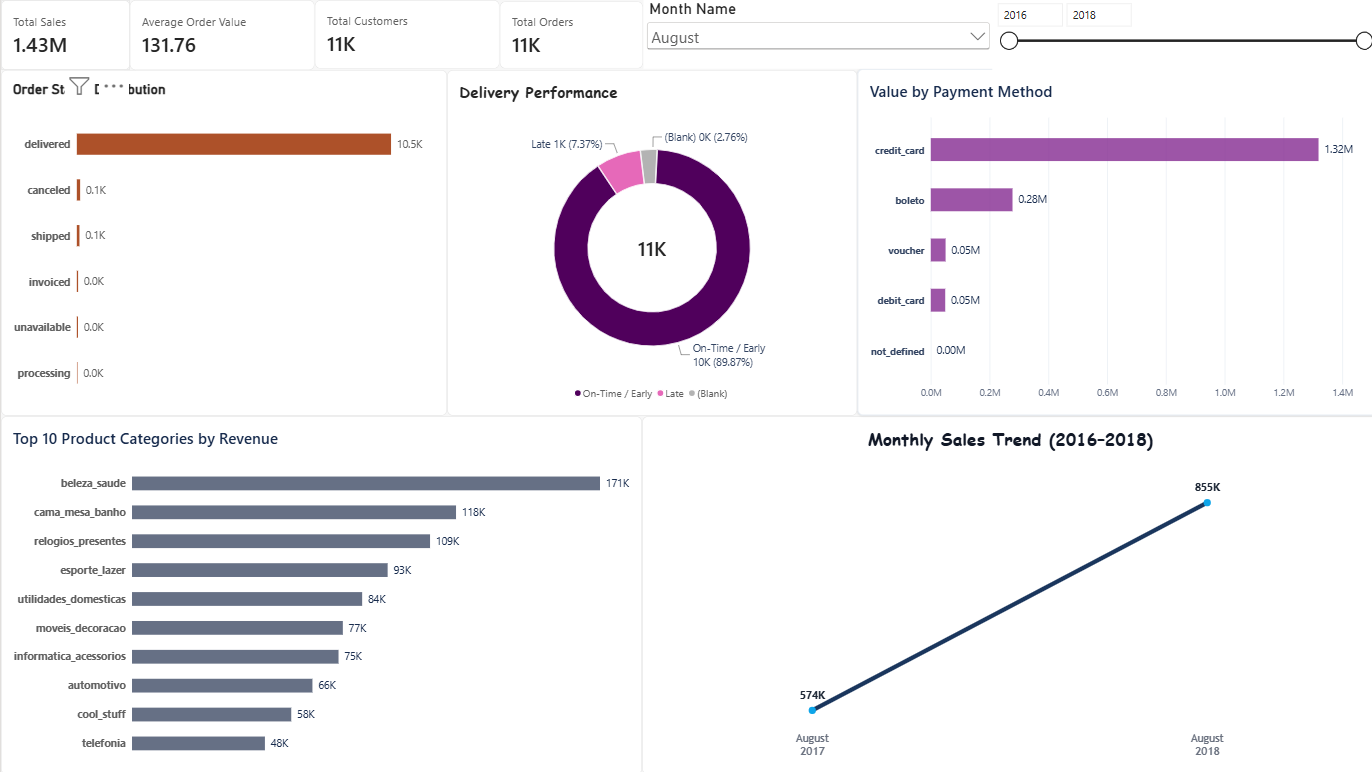

Layout of this report page (visuals, bound fields, positions):
{"tool":"powerbi","page":{"name":"Page 1","canvas":[1920,1080],"ordinal":0},"visuals":[{"type":"lineChart","title":"Monthly Sales Trend (2016–2018)","fields":{"Category":["DateTable.Year","DateTable.Month Name"],"Y":["olist_ecommerce order_items.Total Sales"]},"box":[894,580,1026,500],"z":0},{"type":"clusteredBarChart","title":"Top 10 Product Categories by Revenue","fields":{"Category":["olist_ecommerce products.product_category_name"],"Y":["olist_ecommerce order_items.Total Sales"]},"box":[0,580,894,500],"z":1000},{"type":"clusteredBarChart","title":"Value by Payment Method","fields":{"Category":["olist_ecommerce order_payments.payment_type"],"Y":["olist_ecommerce order_payments.Total Payment Value"]},"box":[1194,96,726,484],"z":2000},{"type":"clusteredBarChart","title":"Order Status Distribution","fields":{"Category":["olist_ecommerce orders.order_status"],"Y":["olist_ecommerce orders.Total Orders"]},"box":[0,98,622,482],"z":3000},{"type":"donutChart","title":"Delivery Performance","fields":{"Category":["olist_ecommerce orders.Delivery Status"],"Y":["olist_ecommerce orders.Total Orders"]},"box":[622,98,572,482],"z":4000},{"type":"cardVisual","fields":{"Data":["olist_ecommerce order_items.Total Sales"]},"box":[0,0,180,98],"z":4001},{"type":"cardVisual","fields":{"Data":["olist_ecommerce orders.Total Orders"]},"box":[696,2,200,94],"z":4002},{"type":"cardVisual","fields":{"Data":["olist_ecommerce customers.Total Customers"]},"box":[438,0,258,96],"z":4003},{"type":"cardVisual","fields":{"Data":["olist_ecommerce order_items.Average Order Value"]},"box":[180,0,258,98],"z":4004},{"type":"slicer","fields":{"Values":["DateTable.Year"]},"box":[1384,0,536,98],"z":4005},{"type":"slicer","fields":{"Values":["DateTable.Month Name"]},"box":[896,0,488,96],"z":4006}]}

Visuals, with their boxes in screenshot pixels (x1, y1, x2, y2), scaled from the page's 1920x1080 canvas onto the 1372x772 screenshot:
"Monthly Sales Trend (2016–2018)" lineChart: <bbox>639, 415, 1371, 771</bbox>
"Top 10 Product Categories by Revenue" clusteredBarChart: <bbox>0, 415, 639, 771</bbox>
"Value by Payment Method" clusteredBarChart: <bbox>853, 69, 1371, 415</bbox>
"Order Status Distribution" clusteredBarChart: <bbox>0, 70, 444, 415</bbox>
"Delivery Performance" donutChart: <bbox>444, 70, 853, 415</bbox>
cardVisual - olist_ecommerce order_items.Total Sales: <bbox>0, 0, 129, 70</bbox>
cardVisual - olist_ecommerce orders.Total Orders: <bbox>497, 1, 640, 69</bbox>
cardVisual - olist_ecommerce customers.Total Customers: <bbox>313, 0, 497, 69</bbox>
cardVisual - olist_ecommerce order_items.Average Order Value: <bbox>129, 0, 313, 70</bbox>
slicer - DateTable.Year: <bbox>989, 0, 1371, 70</bbox>
slicer - DateTable.Month Name: <bbox>640, 0, 989, 69</bbox>
